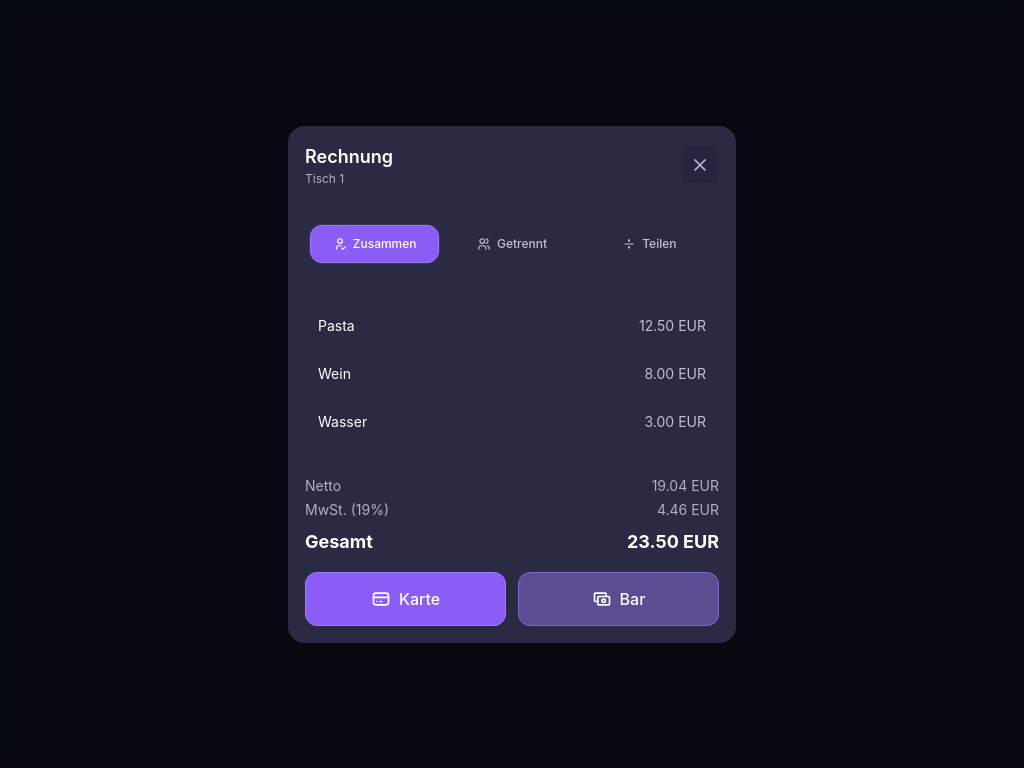
it: Scenario 3 — Guest-split billing (per-seat, mixed payment) › paying Gast 1 (card) marks that section as paid
This screenshot has width=1024, height=768.
Expected: the text "23.50 EUR" is shown, [627,528,719,556]
Click the button "Getrennt". click: click(512, 244)
box: [447,224,577,262]
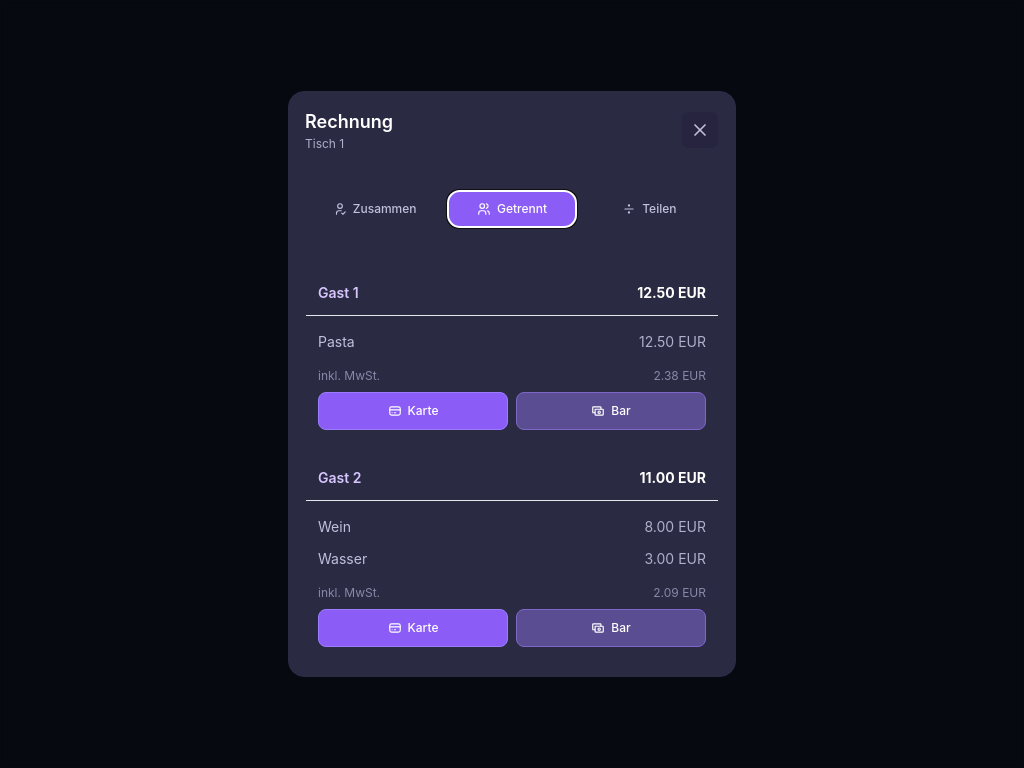
Expected: the text "Gast 1" is shown, [318,283,359,303]
Click the first Karte button (belongs to Gast 1)
Click the button "Karte" below "2.38". click: click(413, 411)
box: [318,392,508,430]
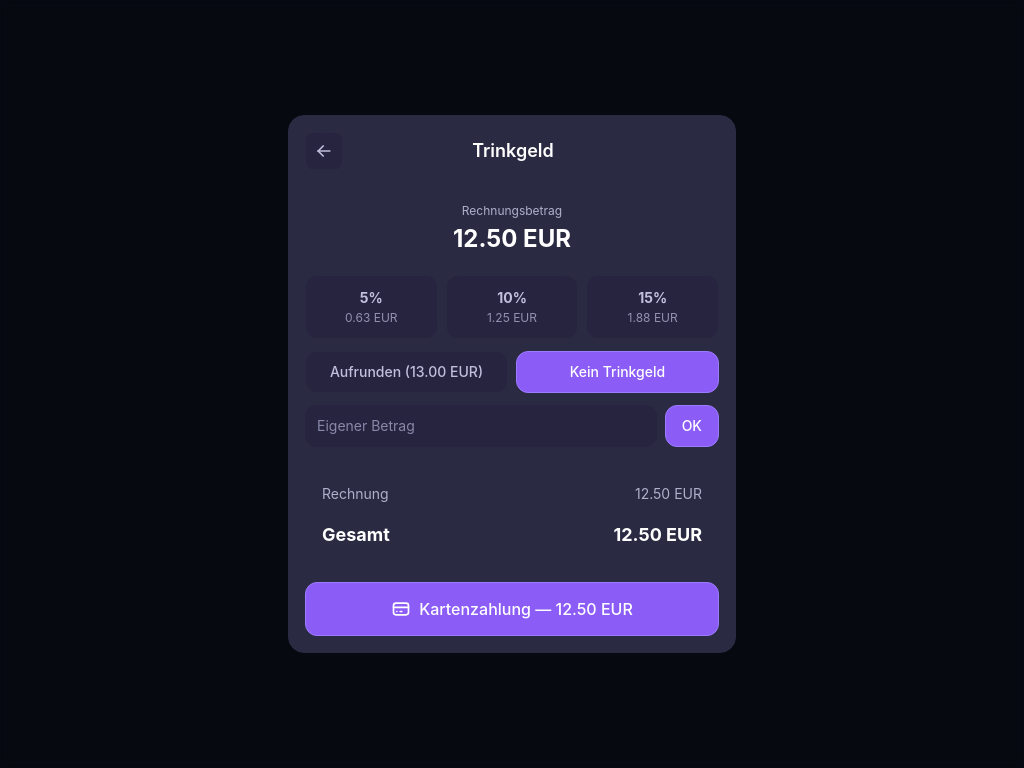
Expected: the heading "Trinkgeld" is shown, [472,137,554,165]
Click the button "Kartenzahlung — 12.50 EUR". click: click(512, 609)
box: [305,582,719,636]
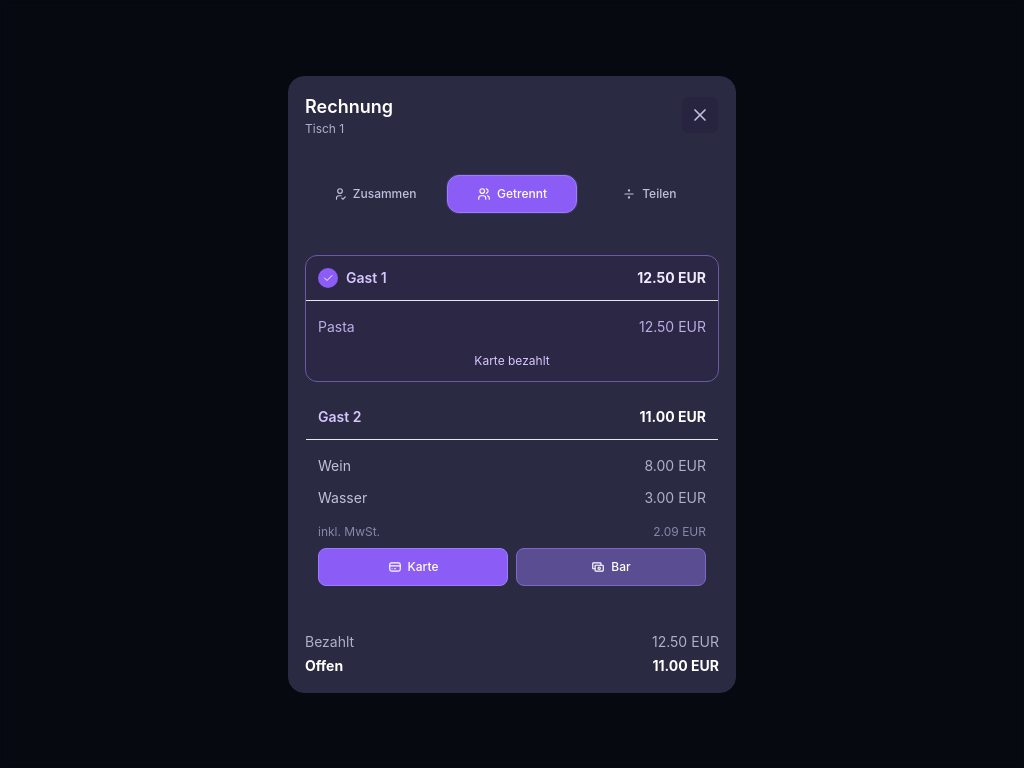
Expected: the text "Karte bezahlt" is shown, [474,352,550,368]
